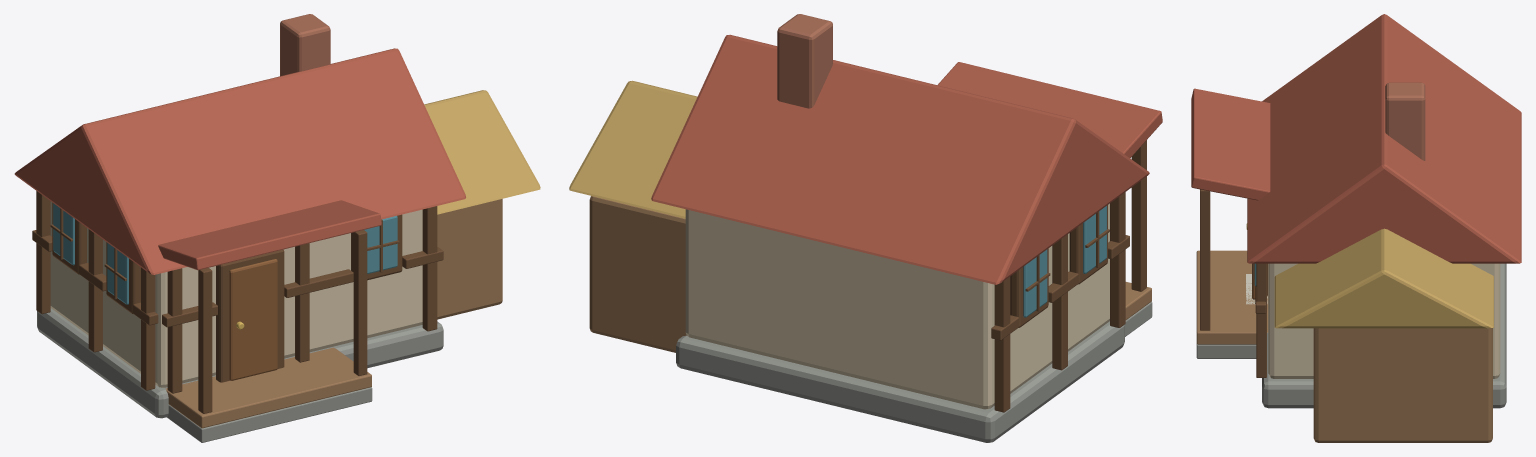
The model's file is temperate-cottage-2.glb.
3 renders of one model, left to right at view 1: azimuth 30°, elevation 25°; view 2: azimuth 150°, elevation 25°; view 3: azimuth 270°, elevation 25°, orthographic. The views are drawn at different scales.
Visible parts, largest first — view 1: Clay tiles, Dark beams, Ivory plaster, Aged oak, Foundation stone, Golden thatch, Door oak, Blue glass, Chimney brick; view 2: Clay tiles, Ivory plaster, Foundation stone, Aged oak, Dark beams, Golden thatch, Chimney brick, Blue glass; view 3: Clay tiles, Aged oak, Golden thatch, Ivory plaster, Foundation stone, Dark beams, Chimney brick.
Part boxes in pixels (<box>): Clay tiles: <box>14,48,465,274</box>; Dark beams: <box>32,191,443,413</box>; Ivory plaster: <box>50,201,422,387</box>; Aged oak: <box>165,199,502,428</box>; Foundation stone: <box>37,308,443,442</box>; Golden thatch: <box>424,90,540,214</box>; Door oak: <box>229,259,277,380</box>; Blue glass: <box>53,203,397,304</box>; Chimney brick: <box>280,14,330,76</box>; Clay tiles: <box>651,34,1162,284</box>; Ivory plaster: <box>685,203,1109,409</box>; Foundation stone: <box>676,302,1152,442</box>; Aged oak: <box>589,196,1151,352</box>; Dark beams: <box>991,140,1146,412</box>; Golden thatch: <box>569,80,697,218</box>; Chimney brick: <box>777,14,832,108</box>; Blue glass: <box>1023,206,1106,317</box>; Clay tiles: <box>1191,14,1521,263</box>; Aged oak: <box>1196,250,1492,442</box>; Golden thatch: <box>1274,228,1493,328</box>; Ivory plaster: <box>1268,263,1500,378</box>; Foundation stone: <box>1196,263,1506,408</box>; Dark beams: <box>1200,189,1267,377</box>; Chimney brick: <box>1385,82,1425,160</box>.
Size of the model in its own units: 4.4 by 3.02 by 3.13.
